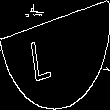L_N: (43, 27, 67, 83)
